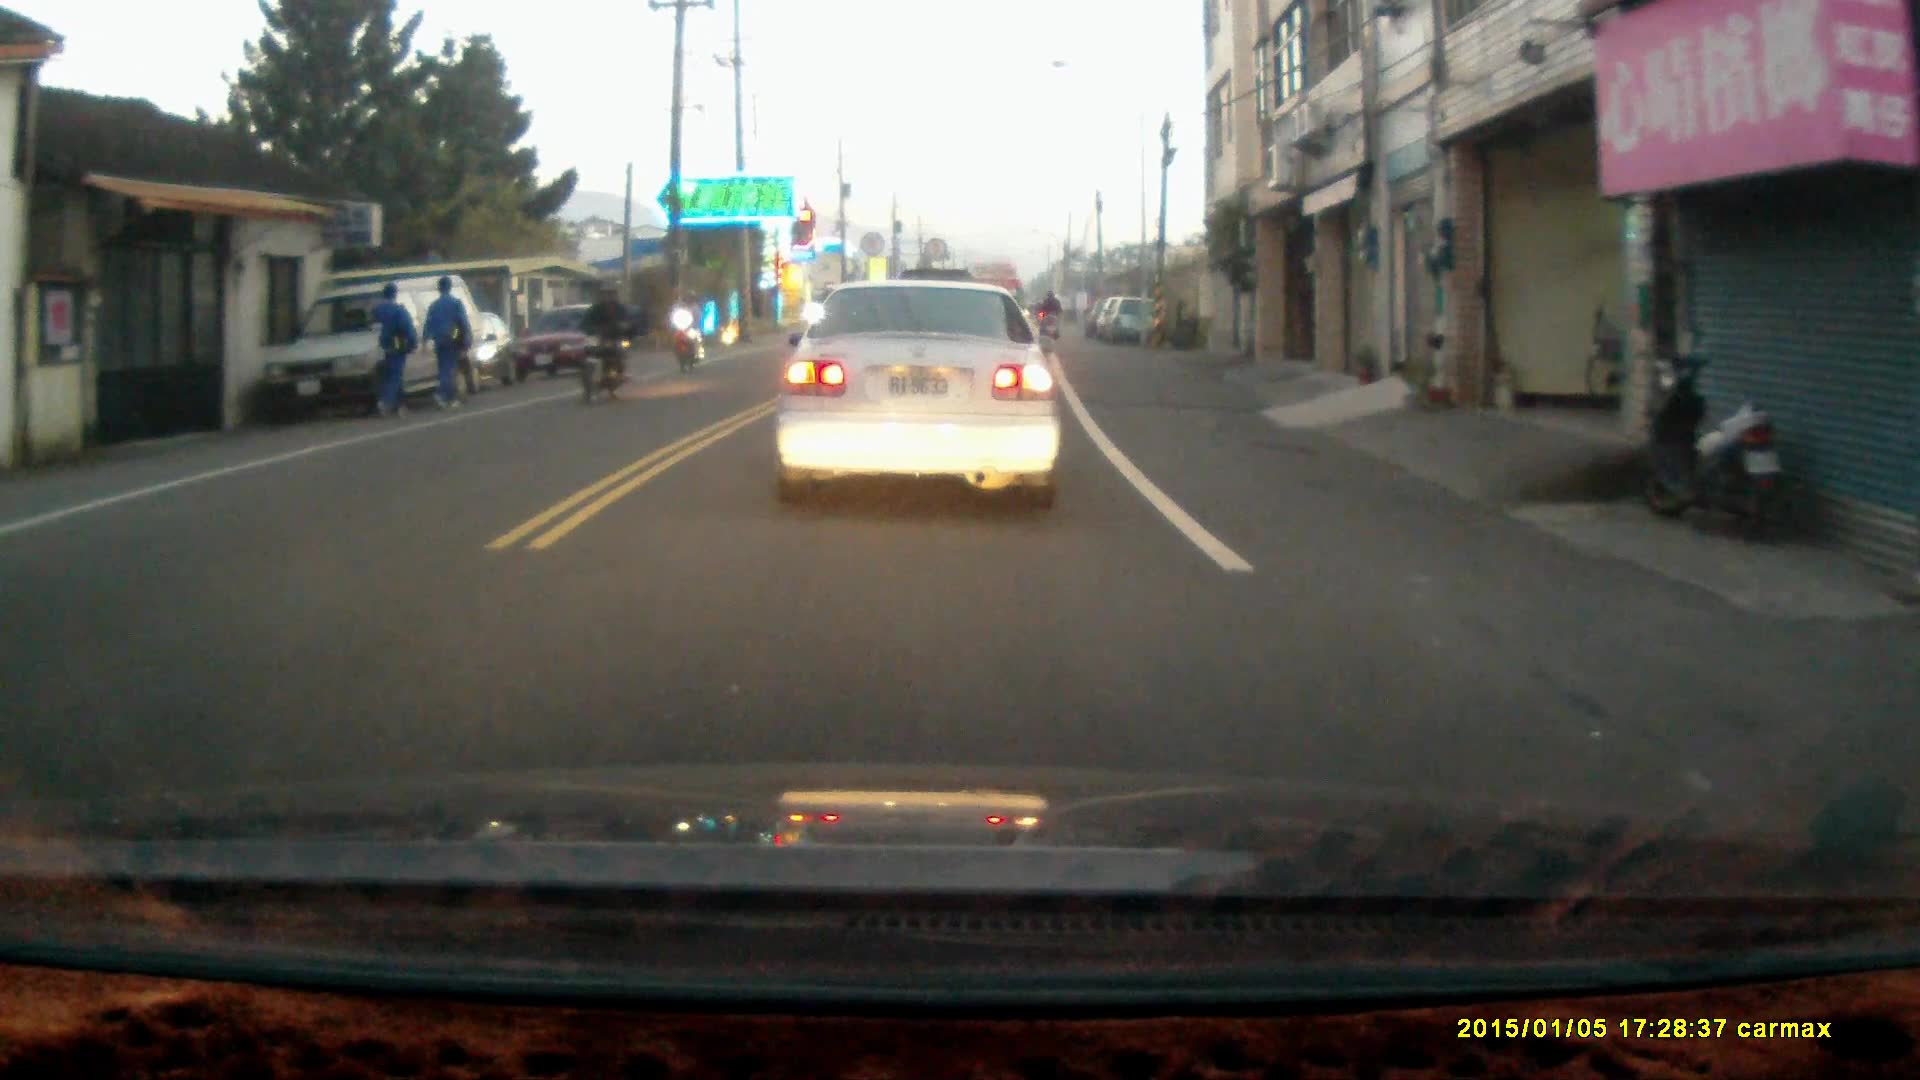pedestrian: (421, 272, 471, 415), (367, 280, 417, 422)
rider: (571, 284, 646, 408), (668, 286, 703, 374)
vehicle: (770, 276, 1065, 512), (261, 275, 494, 415), (517, 306, 631, 386), (1099, 295, 1160, 349)
